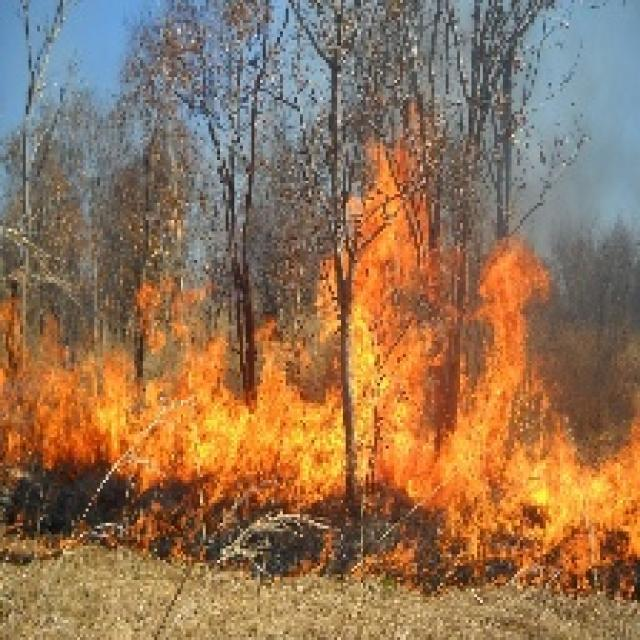Fire: (348, 152, 640, 576), (0, 278, 344, 501)
